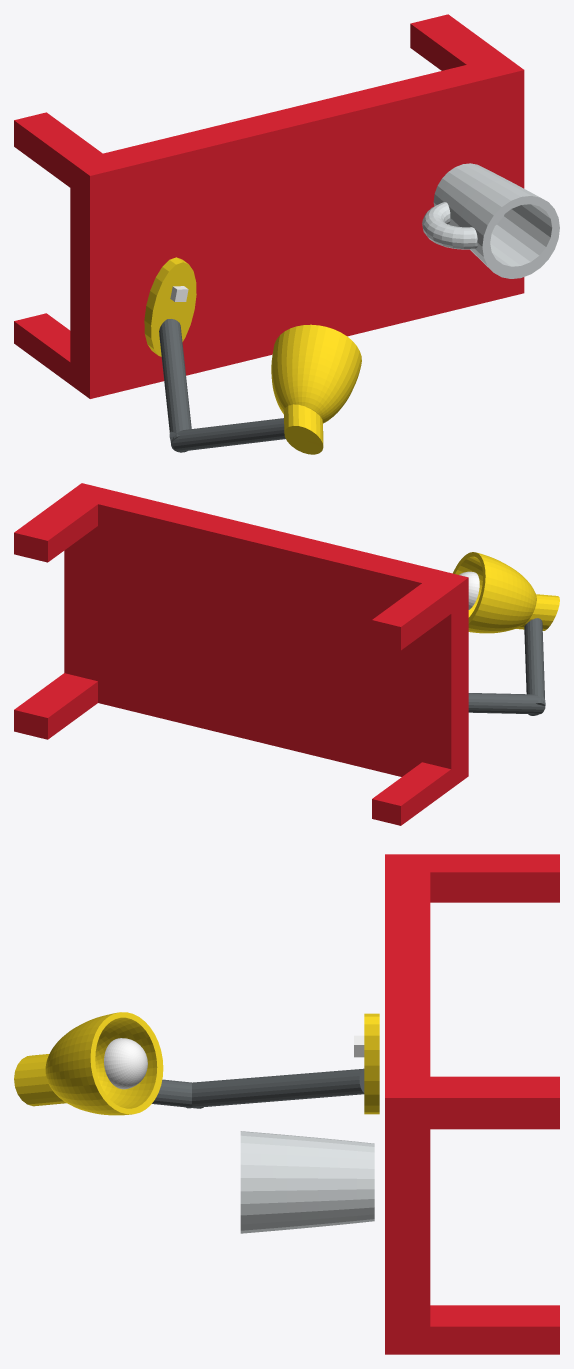
Rendered from tinker.obj.
3 views of the same model, one above another, from view 1: azimuth 30°, elevation 25°; view 2: azimuth 150°, elevation 25°; view 3: azimuth 270°, elevation 25° (orthographic). The views are drawn at different scales.
Visible parts, largest first — view 1: group_0_15277357, group_0_16768282, group_0_14541540, group_0_6383466; view 2: group_0_15277357, group_0_16768282, group_0_6383466; view 3: group_0_15277357, group_0_14541540, group_0_16768282, group_0_6383466, group_0_16448250.
Boxes of the visible parts, x1=… form: group_0_15277357: x1=14, y1=14, x2=524, y2=398; group_0_16768282: x1=144, y1=257, x2=361, y2=454; group_0_14541540: x1=422, y1=163, x2=559, y2=278; group_0_6383466: x1=159, y1=319, x2=285, y2=452; group_0_15277357: x1=14, y1=483, x2=468, y2=825; group_0_16768282: x1=453, y1=552, x2=559, y2=633; group_0_6383466: x1=468, y1=618, x2=545, y2=715; group_0_15277357: x1=385, y1=854, x2=559, y2=1354; group_0_14541540: x1=240, y1=1131, x2=374, y2=1233; group_0_16768282: x1=14, y1=1012, x2=379, y2=1115; group_0_6383466: x1=152, y1=1068, x2=364, y2=1108; group_0_16448250: x1=104, y1=1035, x2=364, y2=1089.
Size of the model in its own units: 113 by 55 by 106.
